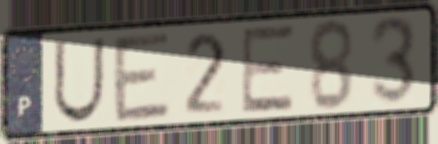2: (182, 29, 229, 117)
3: (368, 13, 419, 110)
8: (306, 16, 357, 115)
E: (110, 28, 174, 127), (238, 21, 298, 117)
U: (50, 35, 108, 126)
